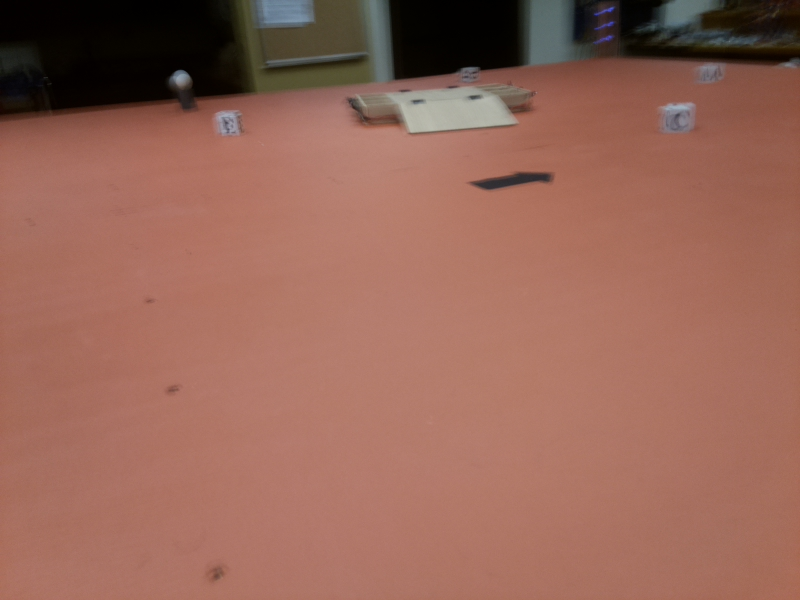blockA: (699, 64, 722, 82)
blockC: (662, 103, 697, 134)
blockD: (461, 64, 480, 83)
blockE: (212, 110, 250, 139)
obstacle: (165, 69, 202, 112)
side: (502, 79, 534, 100), (345, 94, 368, 123)
slope: (402, 93, 517, 133)
start: (458, 171, 554, 192)
